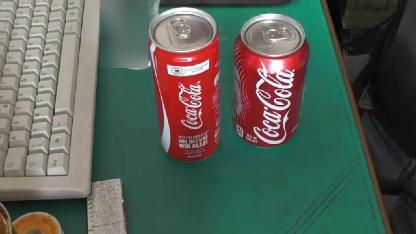Can: (147, 7, 222, 163), (232, 13, 310, 147)
